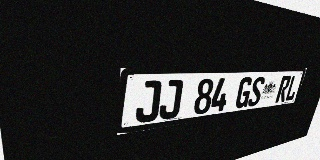4: (210, 78, 231, 113)
8: (193, 78, 215, 115)
G: (234, 77, 254, 109)
J: (135, 80, 162, 124), (158, 79, 184, 120)
L: (284, 75, 300, 101)
R: (275, 76, 292, 103)
S: (247, 77, 266, 107)
